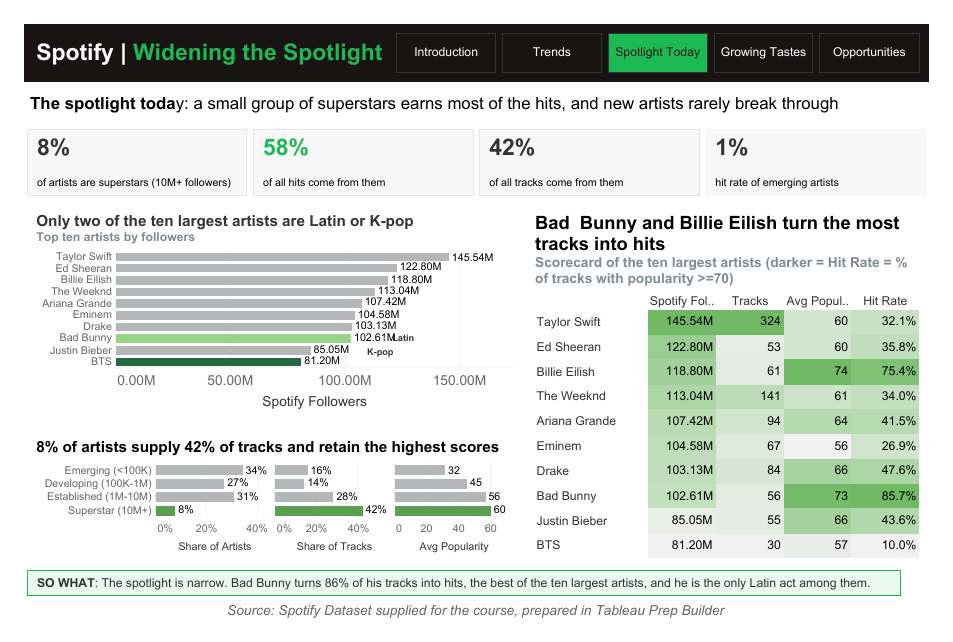

The page's visual inventory and layout, read from the dashboard file:
{"tool":"tableau","page":{"name":"The Spotlight Today","canvas":[1200,800],"ordinal":4},"visuals":[{"type":"text","box":[16,16,475,60]},{"type":"dashboard-object","box":[491,16,138.6,60]},{"type":"dashboard-object","box":[629.6,16,138.6,60]},{"type":"dashboard-object","box":[768.2,16,138.6,60]},{"type":"dashboard-object","box":[906.8,16,138.6,60]},{"type":"dashboard-object","box":[1045.4,16,138.6,60]},{"type":"text","box":[8,84,1152,57]},{"type":"text","box":[8,141,296,96]},{"type":"text","box":[304,141,296,96]},{"type":"text","box":[600,141,296,96]},{"type":"text","box":[896,141,296,96]},{"type":"worksheet","title":"Top Artists","mark":"Automatic","rows":["artist_name"],"cols":["artist_followers"],"box":[8,237,653,296]},{"type":"worksheet","title":"Artist Scorecard","mark":"Square","rows":["artist_name"],"box":[661,237,531,482]},{"type":"worksheet","title":"Artist Tiers","mark":"Bar","rows":["Artist Tier"],"cols":["Calculation_39468955160174595"],"box":[8,533,653,186]},{"type":"text","box":[8,719,1152,41]},{"type":"text","box":[8,760,1184,32]}]}

Visuals, with their boxes in screenshot pixels (x1, y1, x2, y2), scaled from the page's 1200x800 canvas onto the 953x642 screenshot:
text: (left=13, top=13, right=390, bottom=61)
dashboard-object: (left=390, top=13, right=500, bottom=61)
dashboard-object: (left=500, top=13, right=610, bottom=61)
dashboard-object: (left=610, top=13, right=720, bottom=61)
dashboard-object: (left=720, top=13, right=830, bottom=61)
dashboard-object: (left=830, top=13, right=940, bottom=61)
text: (left=6, top=67, right=921, bottom=113)
text: (left=6, top=113, right=241, bottom=190)
text: (left=241, top=113, right=476, bottom=190)
text: (left=476, top=113, right=712, bottom=190)
text: (left=712, top=113, right=947, bottom=190)
"Top Artists" worksheet: (left=6, top=190, right=525, bottom=428)
"Artist Scorecard" worksheet (Square marks): (left=525, top=190, right=947, bottom=577)
"Artist Tiers" worksheet (Bar marks): (left=6, top=428, right=525, bottom=577)
text: (left=6, top=577, right=921, bottom=610)
text: (left=6, top=610, right=947, bottom=636)
